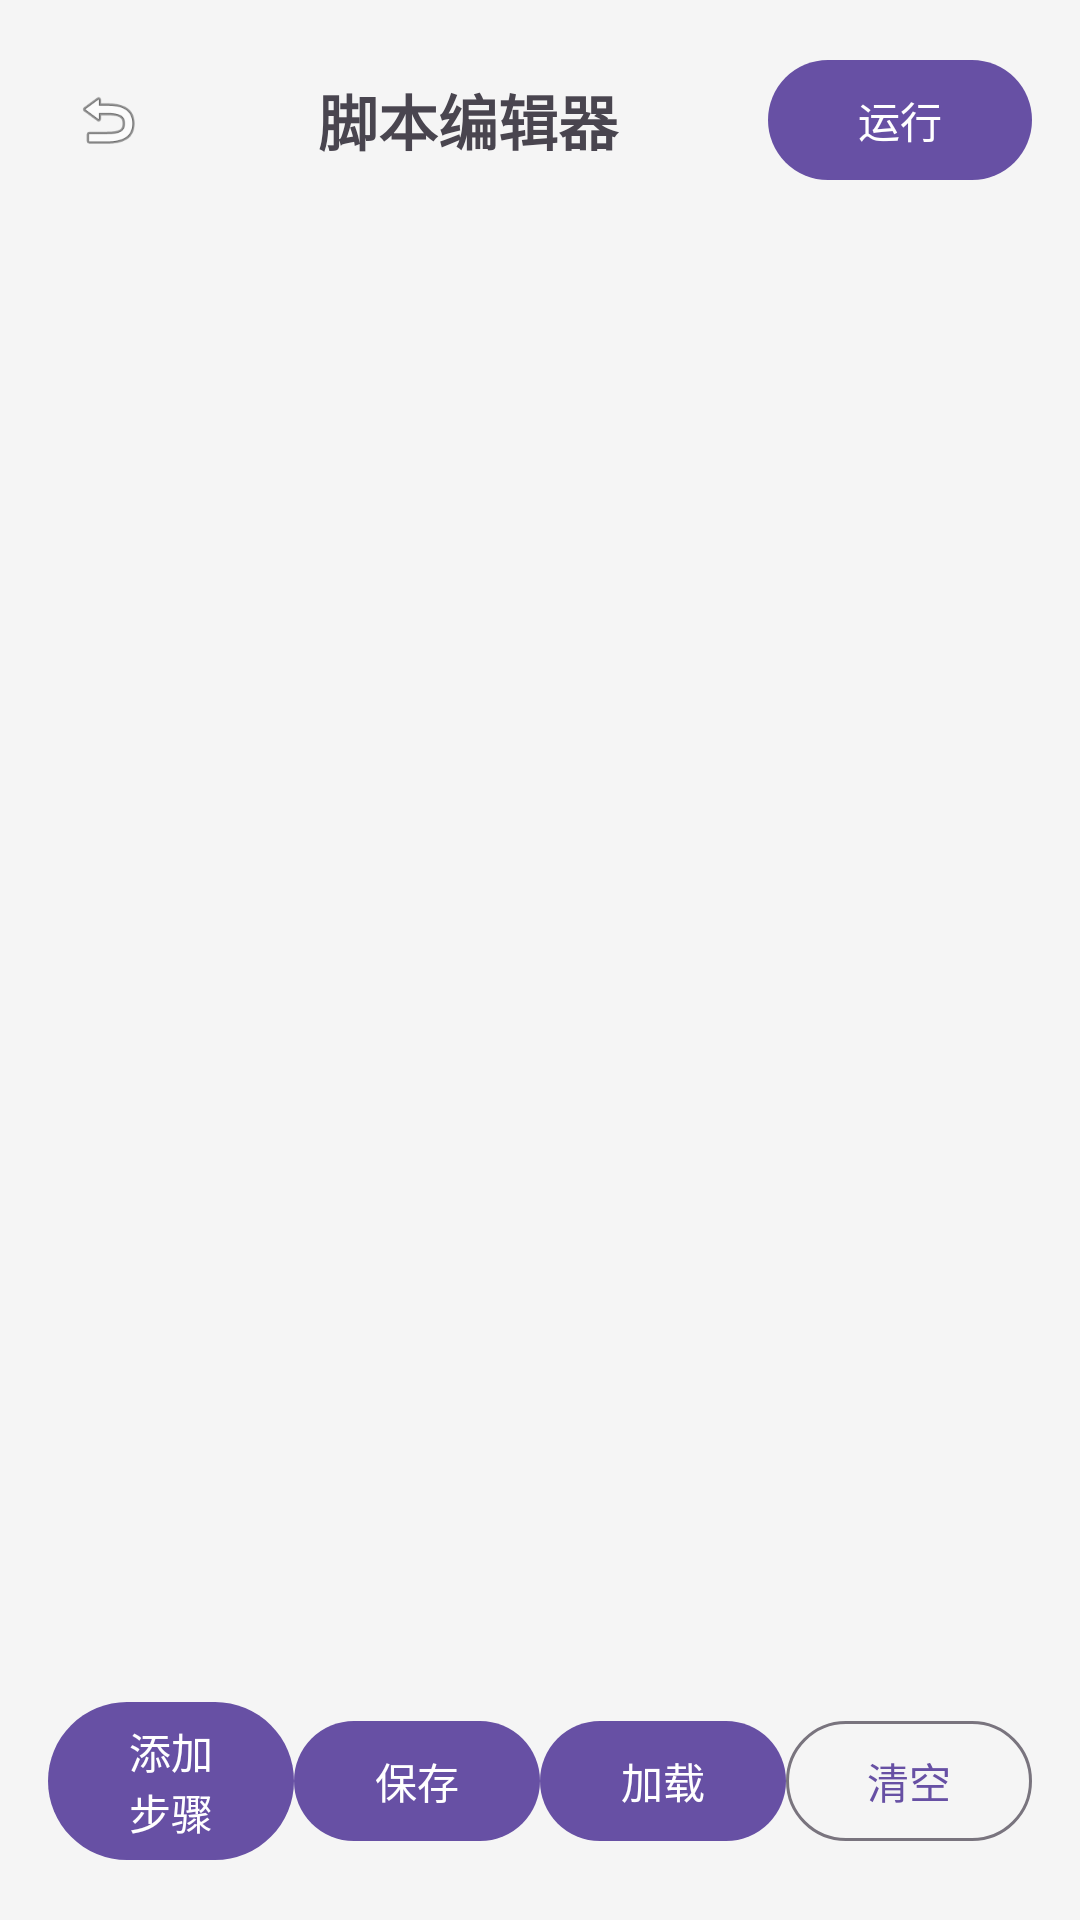

Point at icon controls on the screen. Image size 1080*1920, points as (x,y).
revert: (109,120)
